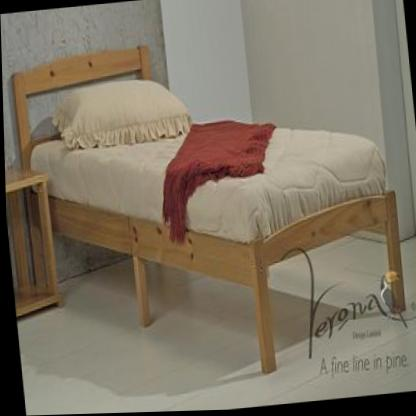Bed: (11, 48, 406, 377)
